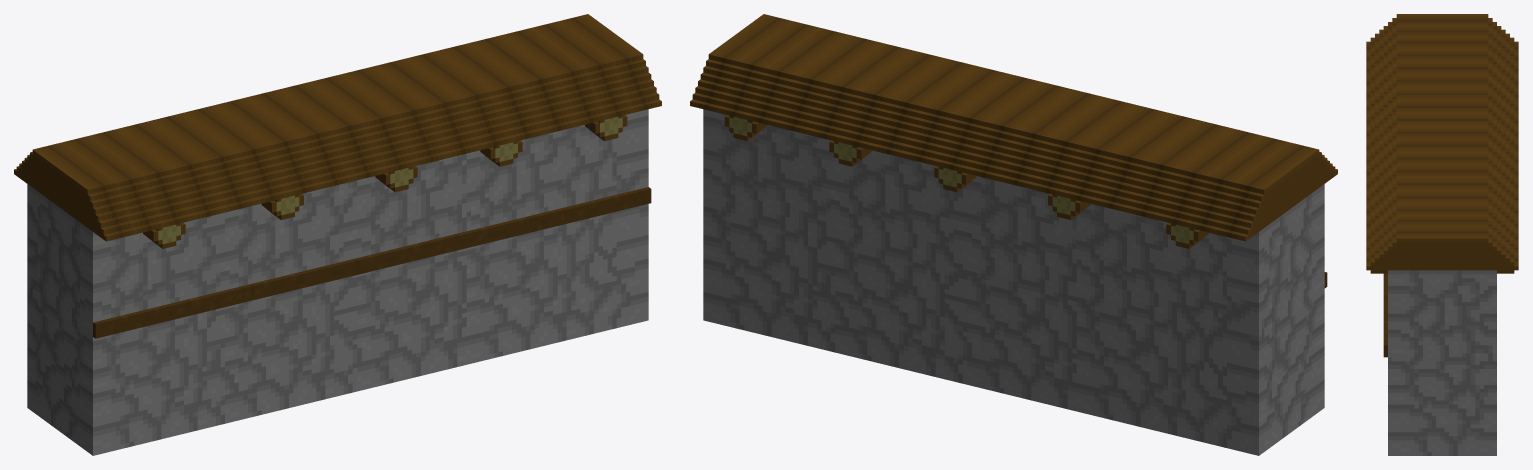
Rendered from CityWall-1.obj.
3 renders of one model, left to right at view 1: azimuth 30°, elevation 25°; view 2: azimuth 150°, elevation 25°; view 3: azimuth 270°, elevation 25°, orthographic. The views are drawn at different scales.
Size of the model in its own units: 12.2 by 5.5 by 3.5.
Materials: 1 (1 with a texture image).
